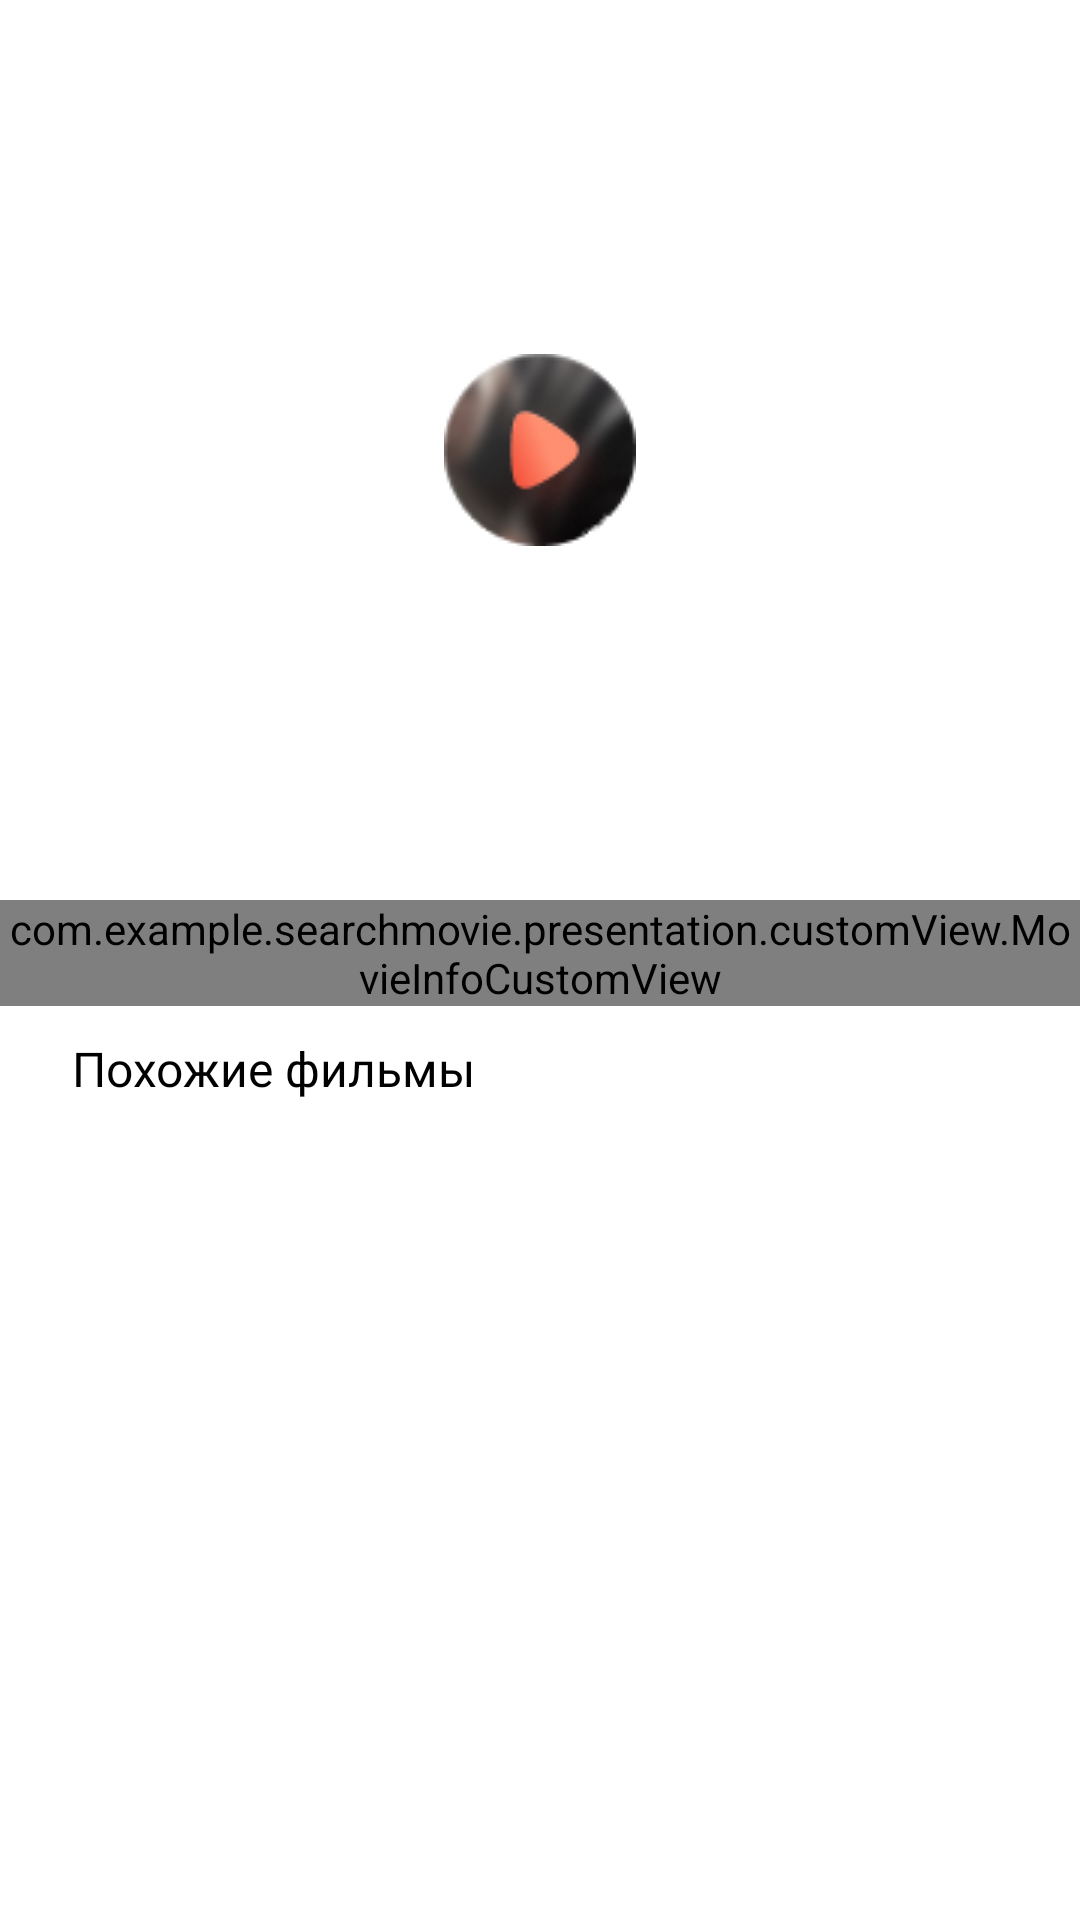

Point at icon controls on the screen. Image size 1080px×1920px, points as [x,y].
play movie: [540,450]
